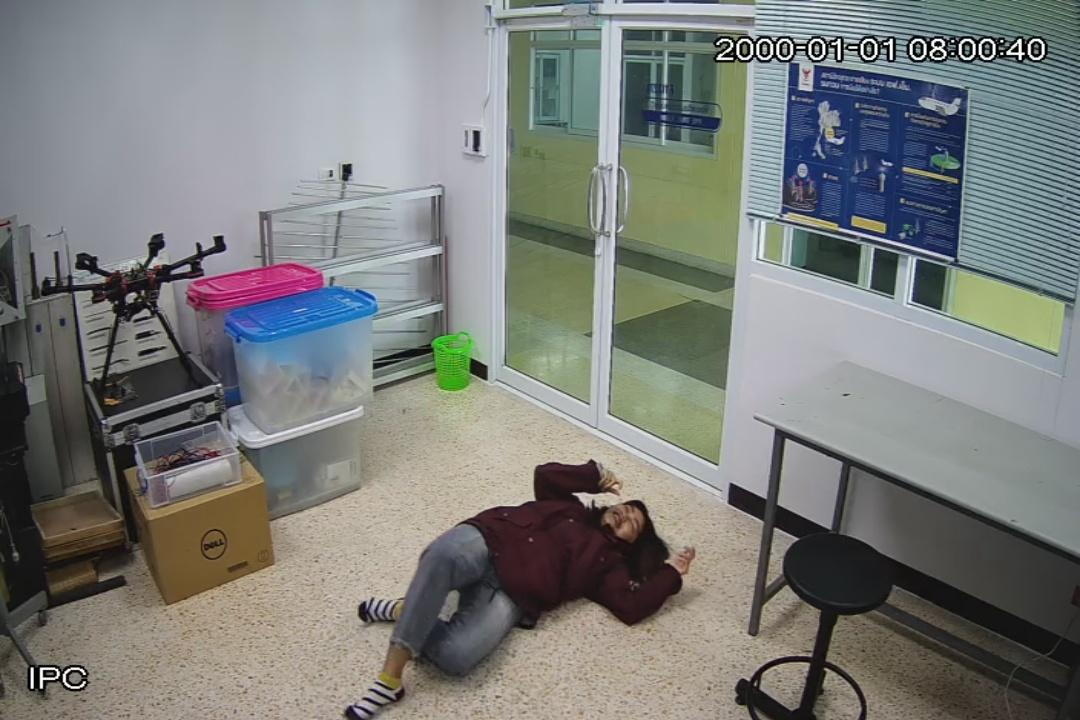fall: (350, 456, 696, 720)
